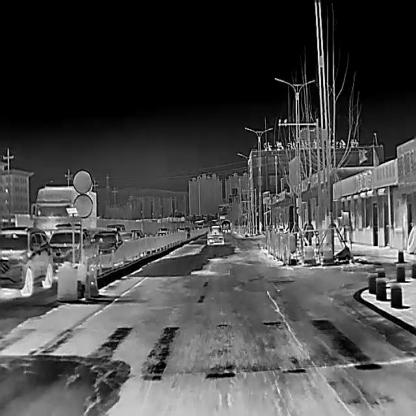car: (0, 226, 51, 296), (49, 229, 99, 279), (91, 228, 121, 255), (206, 226, 224, 243), (221, 221, 228, 231)
truck: (29, 186, 96, 268)
